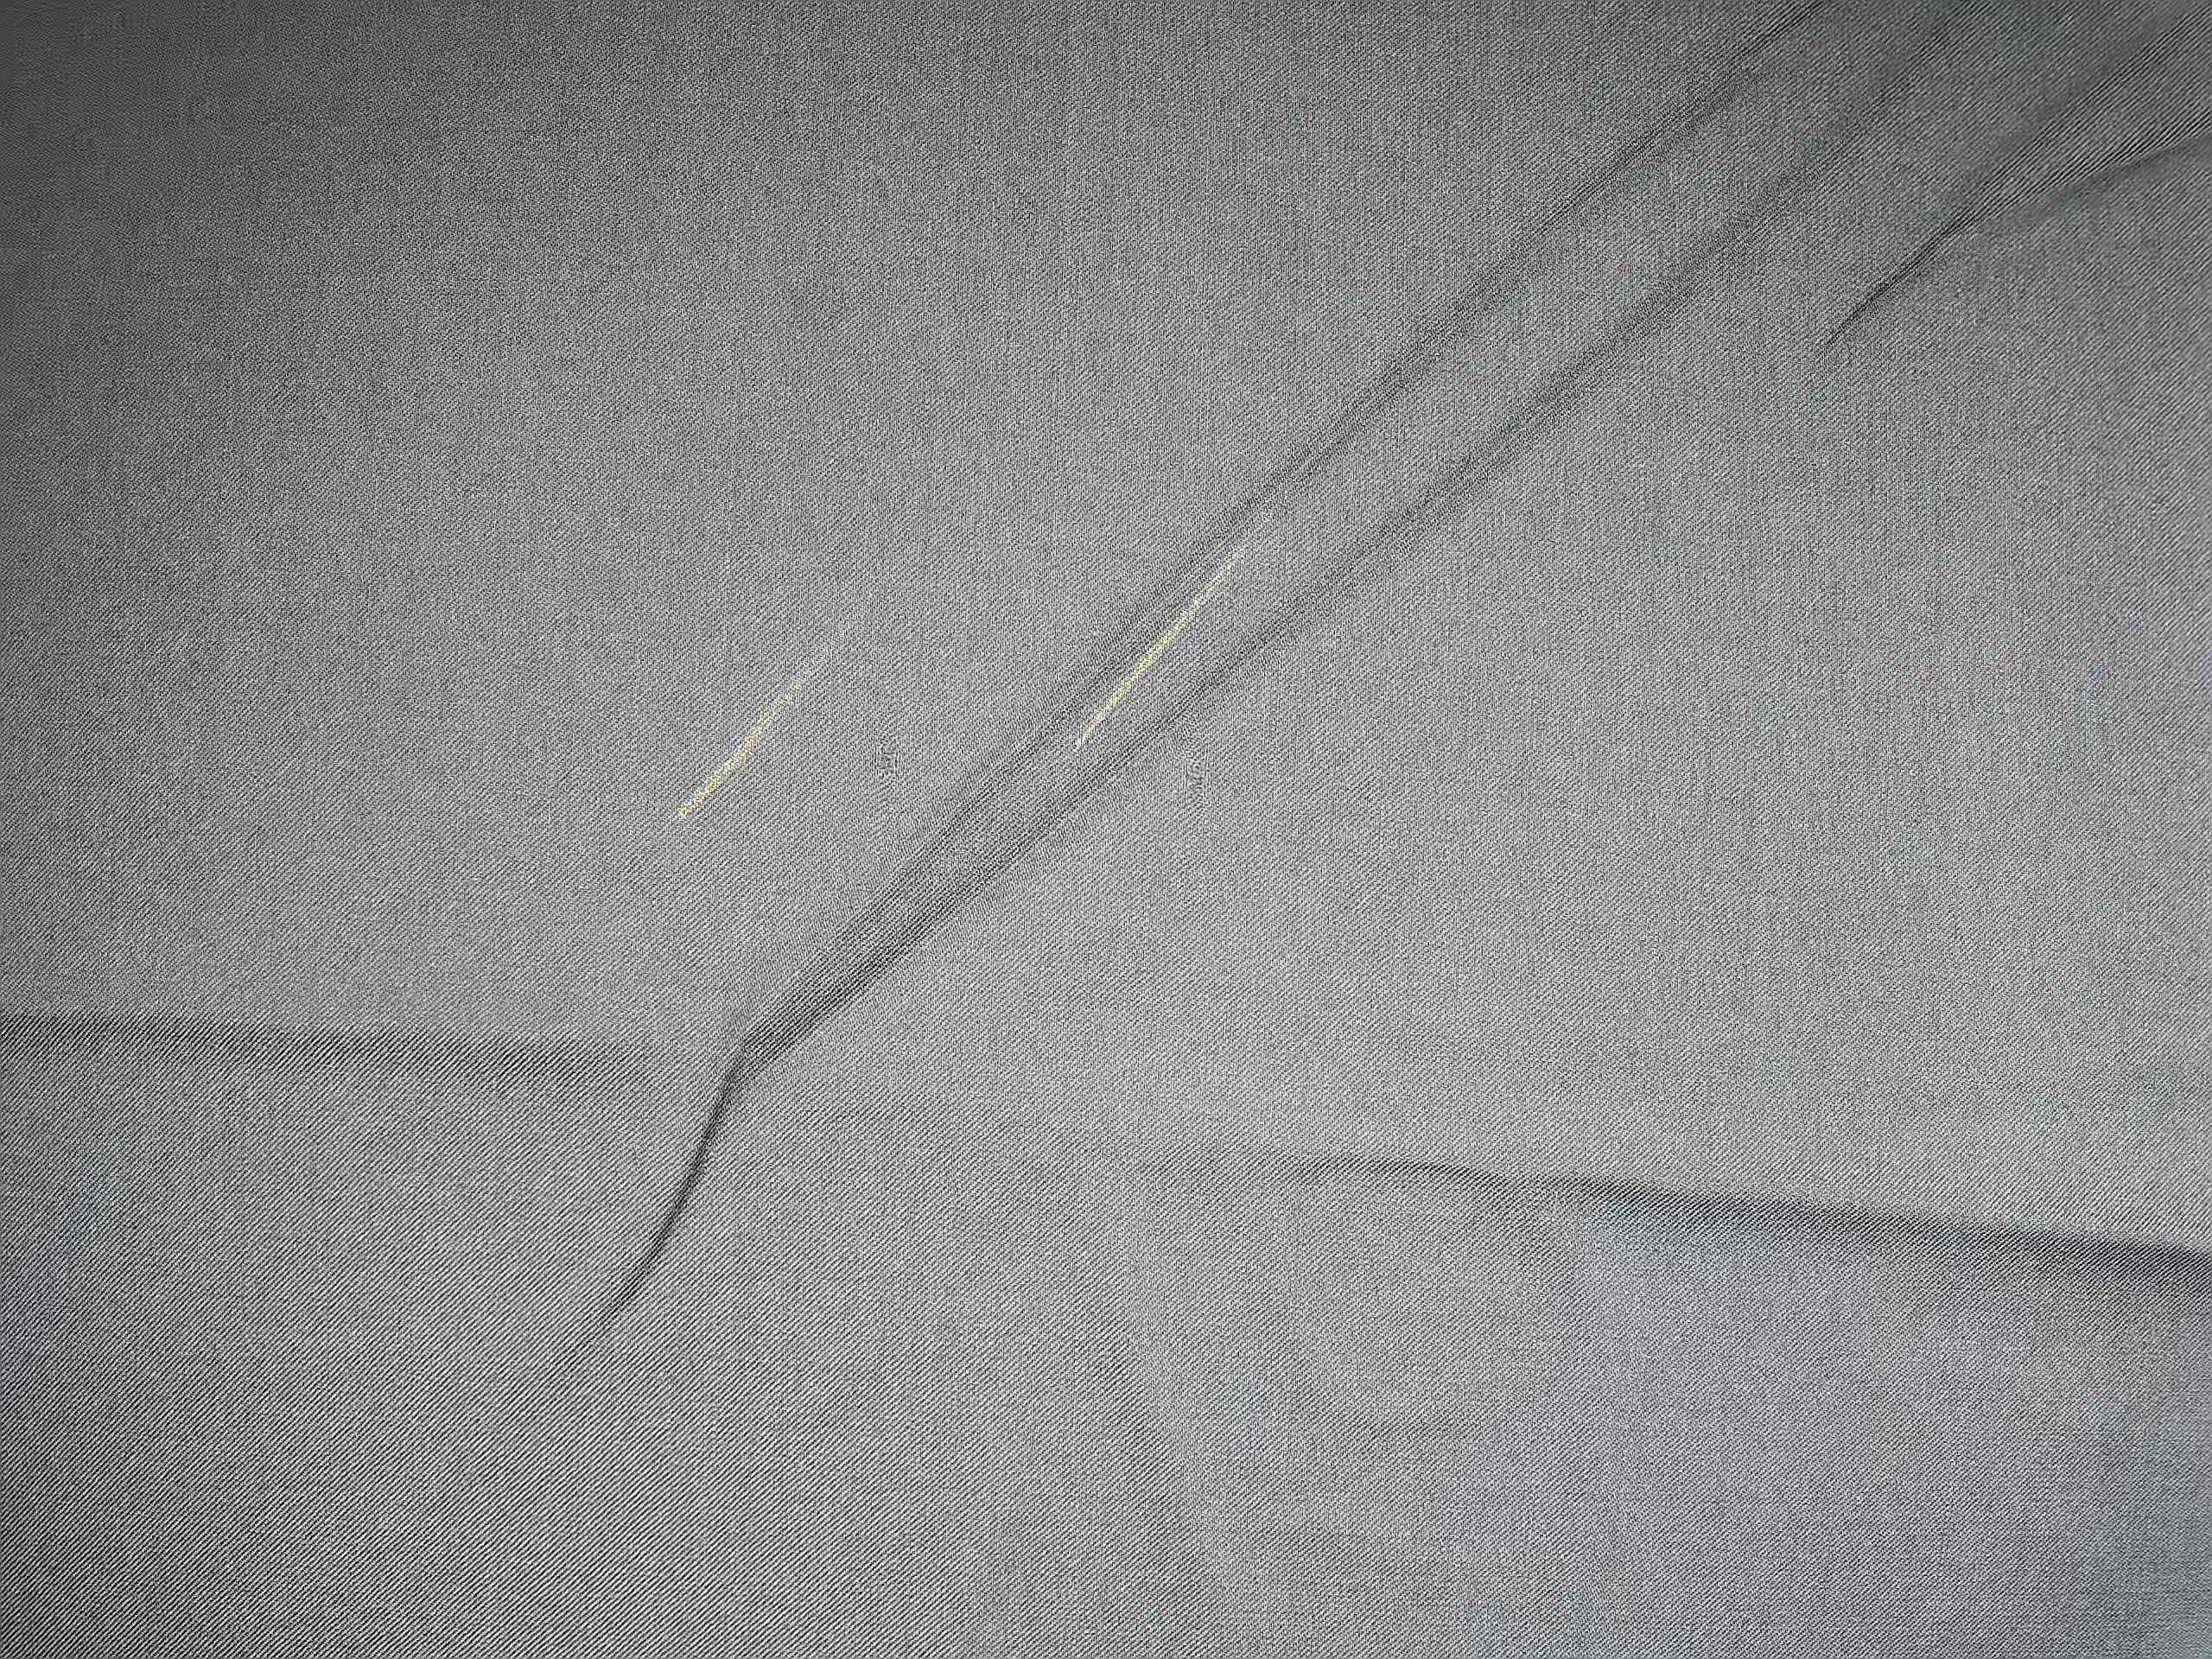rubbing-hole: (862, 723, 916, 798), (1172, 742, 1216, 824)
